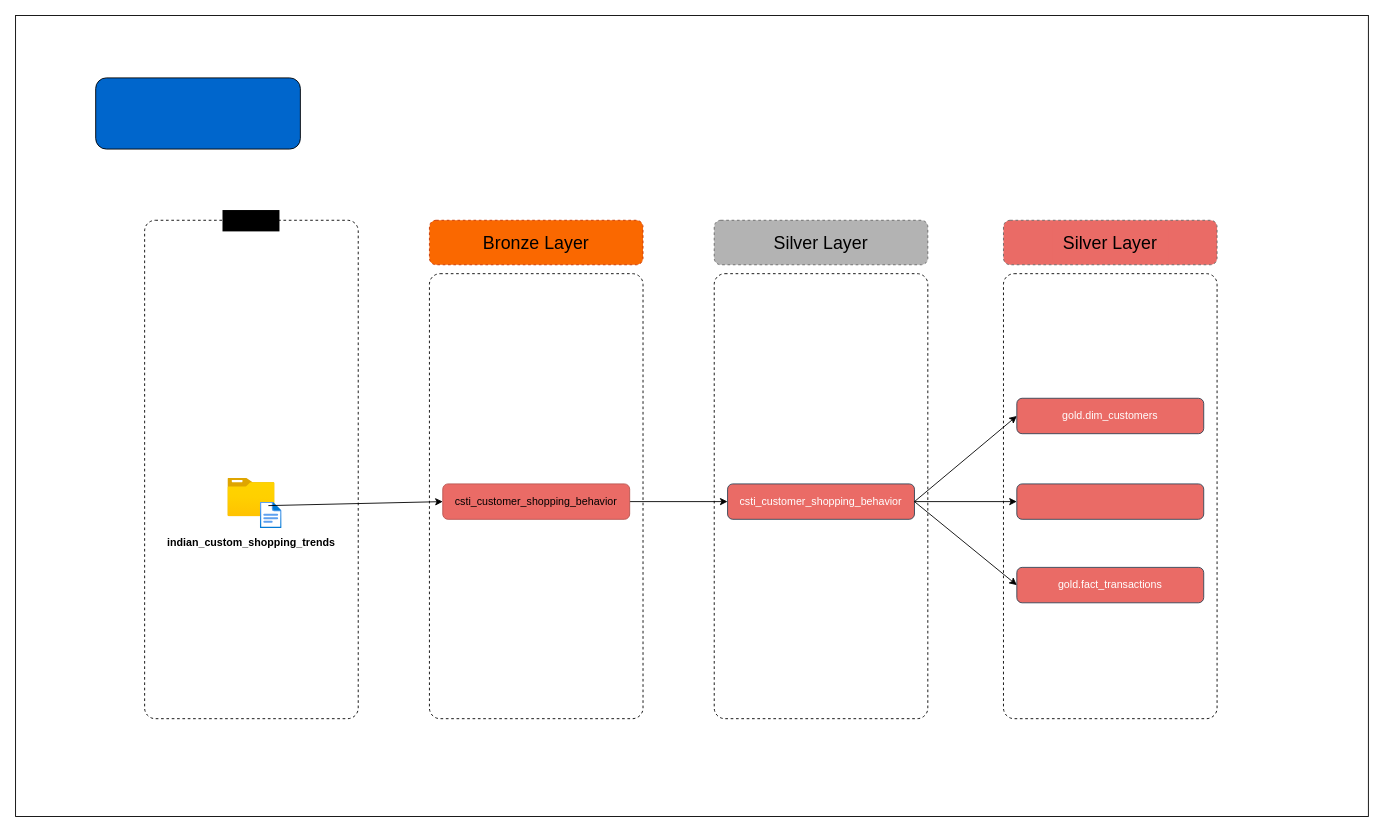
This 1384x832 diagram has some shape labels left out. The shapes that lost their labels are listed below. From the top down, each one's centre as x and y in pixels, then its label:
the point at 197,113: Data Flow
the point at 1110,501: gold.dim_products
